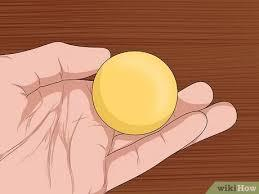oball: (88, 47, 181, 139)
